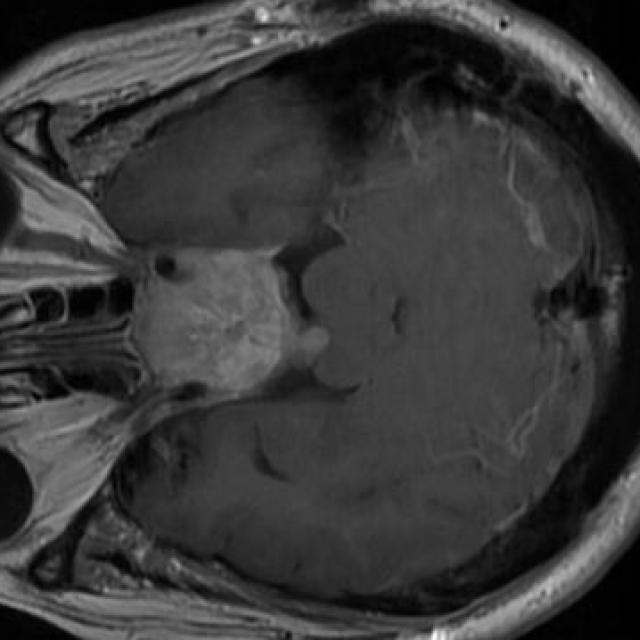pituitary: (143, 251, 289, 390)
